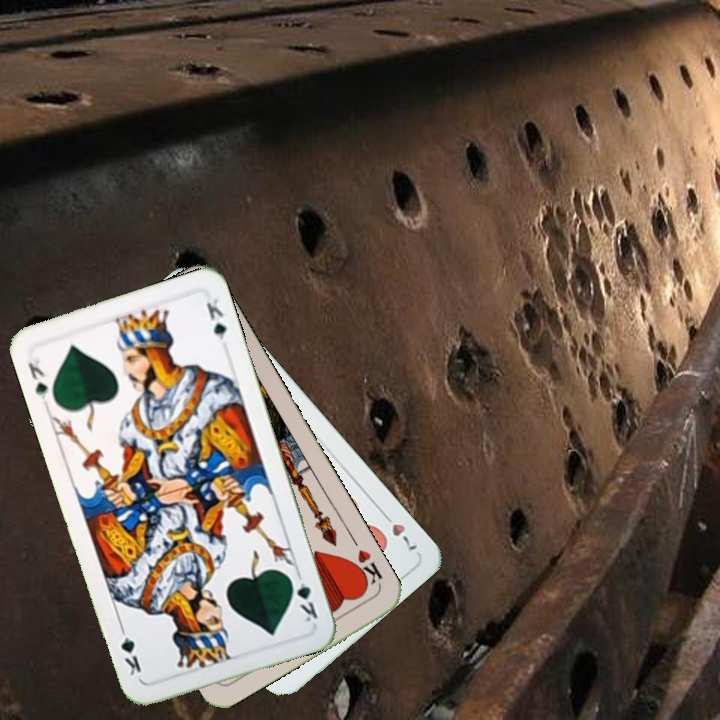GK: (285, 568, 321, 625), (24, 355, 51, 402)
H7: (377, 506, 420, 553)
HK: (347, 545, 385, 591)
